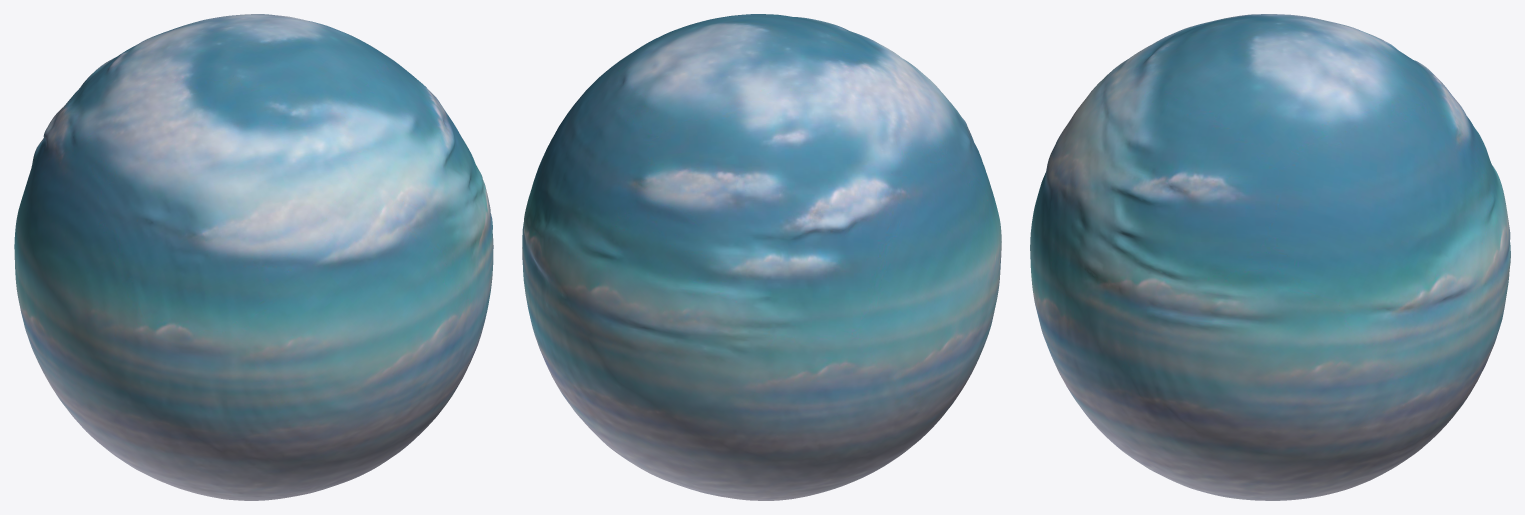
Rendered from peace.glb.
3 renders of one model, left to right at view 1: azimuth 30°, elevation 25°; view 2: azimuth 150°, elevation 25°; view 3: azimuth 270°, elevation 25°, orthographic.
Visible parts, largest first — view 1: geometry_0; view 2: geometry_0; view 3: geometry_0.
Boxes of the visible parts, bbox=[...] form: geometry_0: bbox=[14, 14, 493, 500]; geometry_0: bbox=[522, 14, 1001, 500]; geometry_0: bbox=[1030, 14, 1510, 500].
Bounding box in the file's own units: 0.587 × 0.5976 × 0.5876.
1 material, 1 textured.
